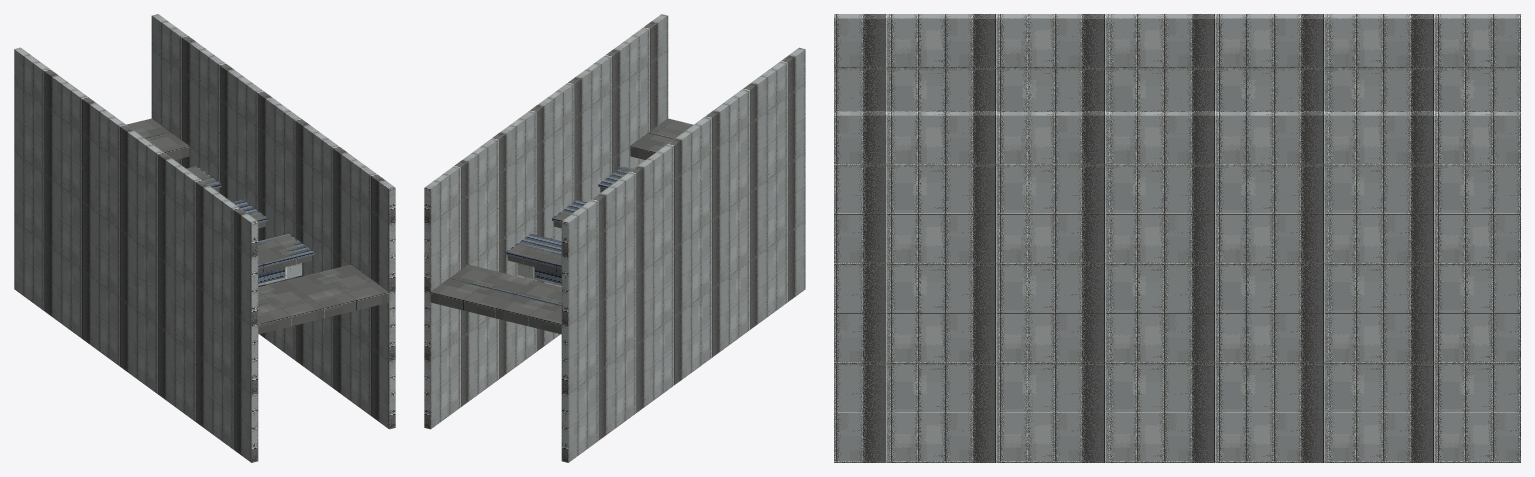
Rendered from shell_path_spans.glb.
The picture shows the model from 3 angles, left to right: view 1: azimuth 30°, elevation 25°; view 2: azimuth 150°, elevation 25°; view 3: azimuth 270°, elevation 25°; orthographic projection. The views are drawn at different scales.
Visible parts, largest first — view 1: shell_path_spans; view 2: shell_path_spans; view 3: shell_path_spans.
Part boxes in pixels (x1,y1,x2,y2): shell_path_spans: (14,14,395,462); shell_path_spans: (424,14,805,462); shell_path_spans: (834,14,1520,462).
Bounding box in the file's own units: 8.8 × 14 × 25.1.
18 materials, 18 textured.
